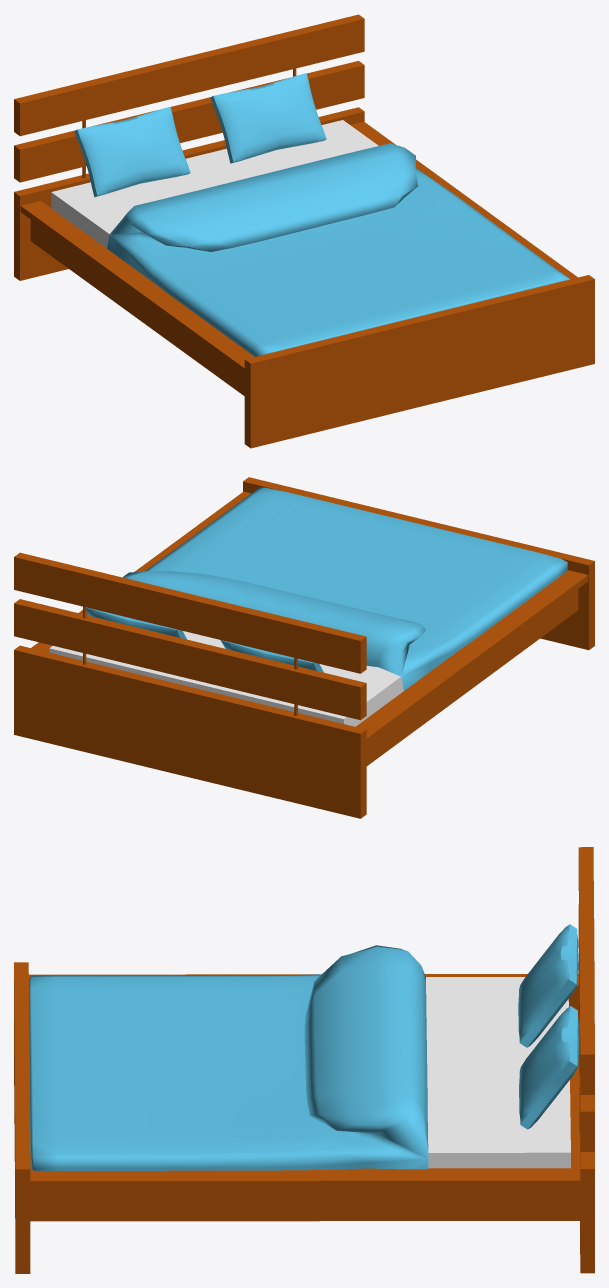
File: IKEA-Hopen_Bed_160-3D.obj
3 views of the same model, one above another, from view 1: azimuth 30°, elevation 25°; view 2: azimuth 150°, elevation 25°; view 3: azimuth 270°, elevation 25° (orthographic). The views are drawn at different scales.
Visible parts, largest first — view 1: Box01, QuadPatch1, Object01, QuadPatch0; view 2: Box01, QuadPatch1, QuadPatch0, Object01; view 3: QuadPatch1, Box01, QuadPatch0, Object01.
Part boxes in pixels (x1=…): Box01: x1=14, y1=14, x2=594, y2=448; QuadPatch1: x1=107, y1=143, x2=569, y2=356; Object01: x1=74, y1=73, x2=326, y2=197; QuadPatch0: x1=51, y1=120, x2=378, y2=248; Box01: x1=14, y1=477, x2=594, y2=818; QuadPatch1: x1=122, y1=487, x2=567, y2=690; QuadPatch0: x1=49, y1=631, x2=403, y2=726; Object01: x1=86, y1=607, x2=323, y2=672; QuadPatch1: x1=29, y1=945, x2=428, y2=1170; Box01: x1=14, y1=847, x2=594, y2=1273; QuadPatch0: x1=426, y1=977, x2=570, y2=1168; Object01: x1=518, y1=924, x2=579, y2=1129.
Size of the model in its own units: 4426 by 2167 by 5221.
